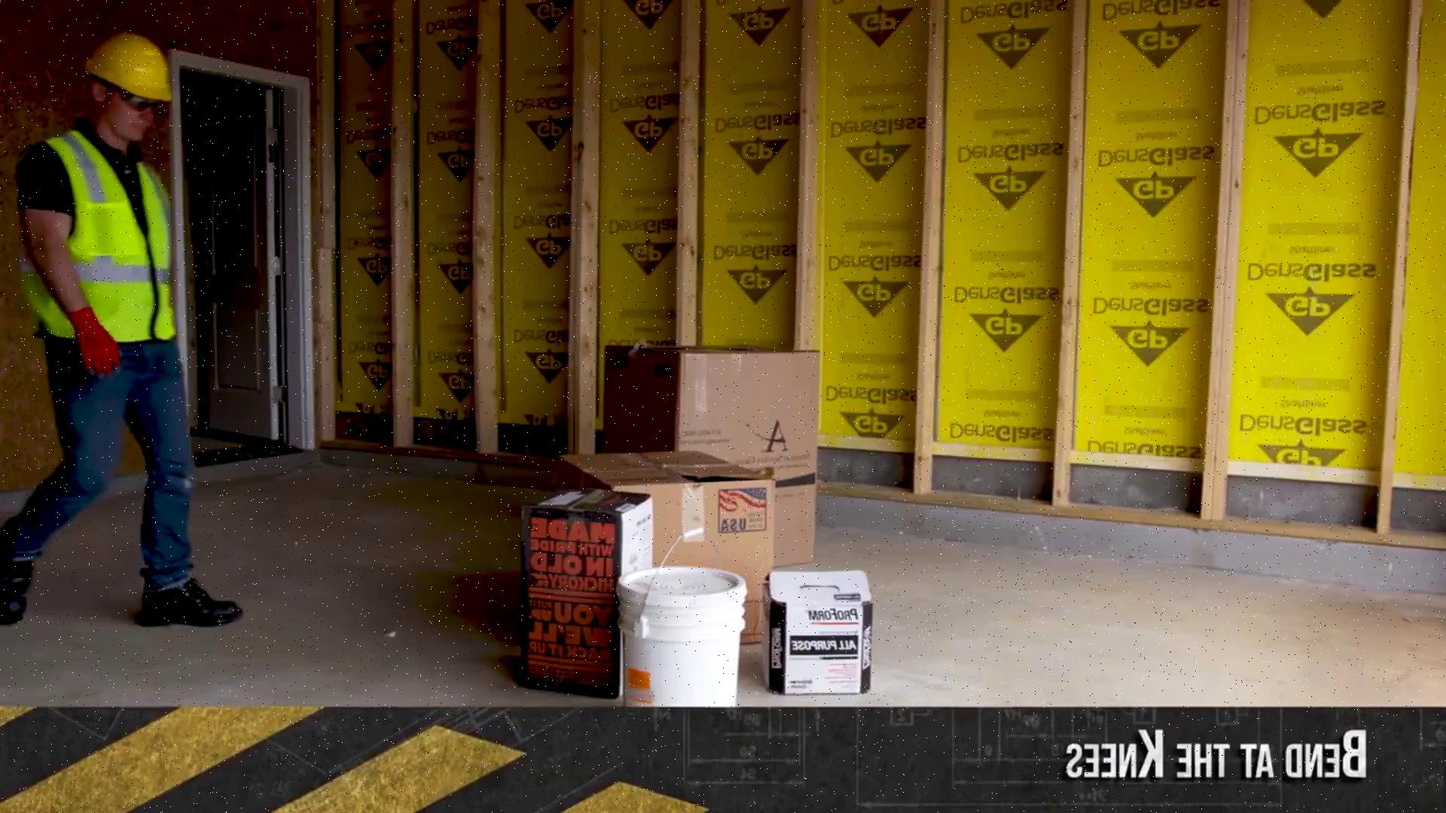Hard_hat: (75, 34, 187, 97)
Vest: (31, 127, 172, 368)
